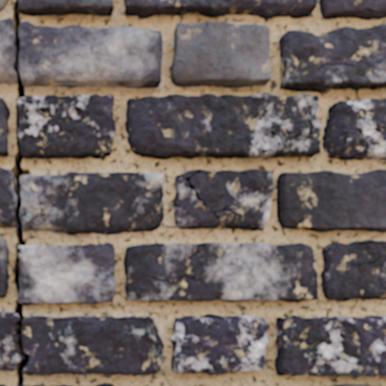brick: (126, 93, 320, 158), (124, 243, 318, 301), (279, 25, 385, 91), (275, 316, 385, 376), (277, 170, 385, 231), (171, 22, 270, 87), (17, 95, 114, 158), (173, 170, 273, 229), (19, 243, 114, 304), (171, 315, 268, 374), (323, 99, 385, 159), (322, 241, 385, 300), (125, 0, 317, 17), (19, 0, 112, 15), (319, 0, 385, 19), (0, 98, 9, 155), (0, 239, 8, 296), (0, 0, 7, 10), (338, 384, 363, 385), (98, 384, 113, 385)
broken_brick: (20, 20, 162, 89), (21, 171, 164, 235), (23, 315, 164, 376), (0, 311, 19, 371), (0, 17, 16, 84), (0, 167, 15, 228)
crack: (2, 0, 31, 385), (184, 169, 245, 219), (301, 111, 315, 155), (359, 240, 372, 245)
